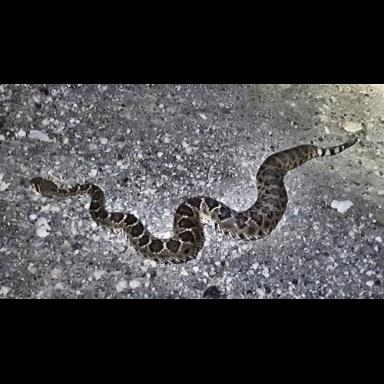snake: (31, 140, 359, 265)
